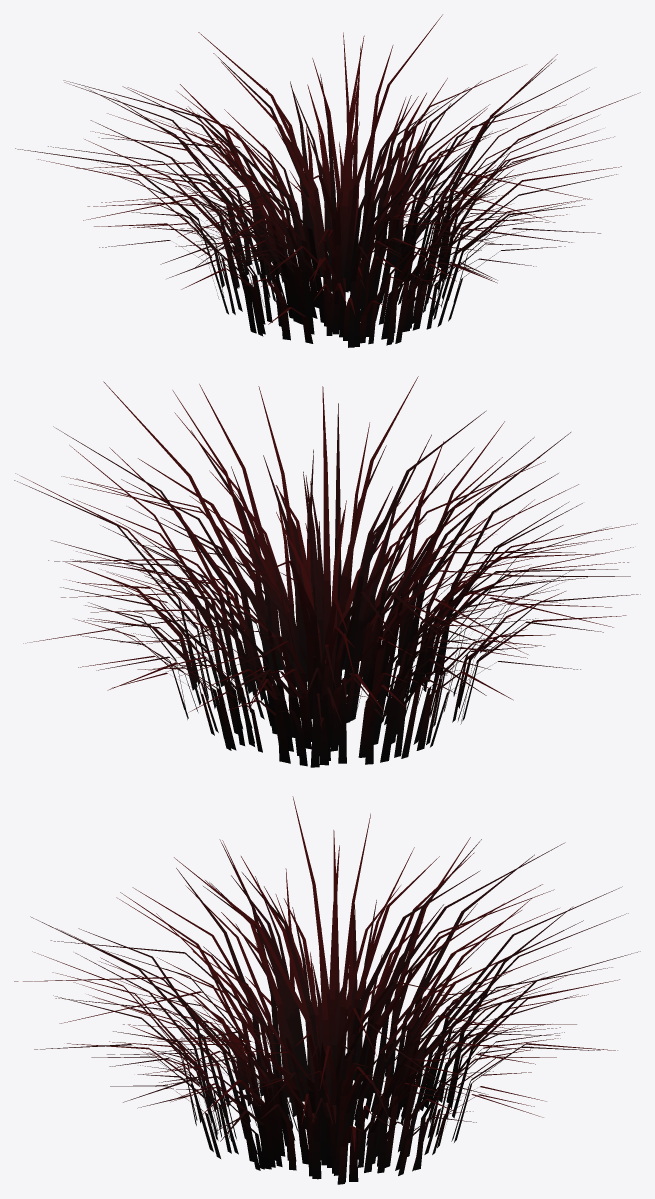
The model's file is shade_grass_v3.fbx.
3 views of the same model, one above another, from view 1: azimuth 30°, elevation 25°; view 2: azimuth 150°, elevation 25°; view 3: azimuth 270°, elevation 25° (orthographic). The views are drawn at different scales.
Parts seen in each view (by area): view 1: shade_grass_v3; view 2: shade_grass_v3; view 3: shade_grass_v3.
Part boxes in pixels (x1=…): shade_grass_v3: x1=15, y1=14, x2=640, y2=347; shade_grass_v3: x1=14, y1=376, x2=640, y2=767; shade_grass_v3: x1=14, y1=796, x2=640, y2=1184.
Bounding box in the file's own units: 93.45 × 36.78 × 93.07.
